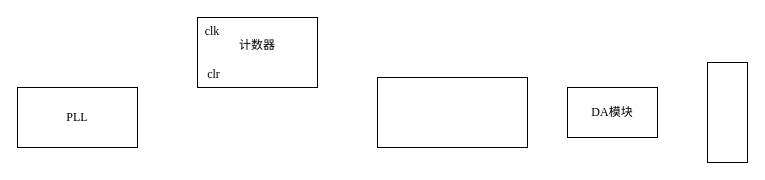
The diagram is 765 pixels wide and 180 high, and some of its shapes have lost their labels. The centre of each missing label's shape, as x and y in pixels:
"address ROM clk" belongs at point (452, 112).
"示波器" belongs at point (727, 112).
